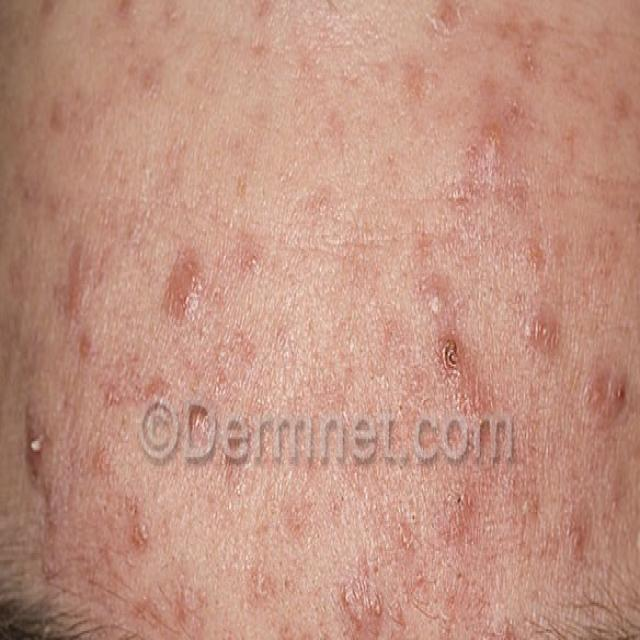Acne: (0, 99, 233, 602), (426, 206, 640, 475), (408, 10, 596, 182), (251, 524, 425, 640), (448, 499, 640, 569)
